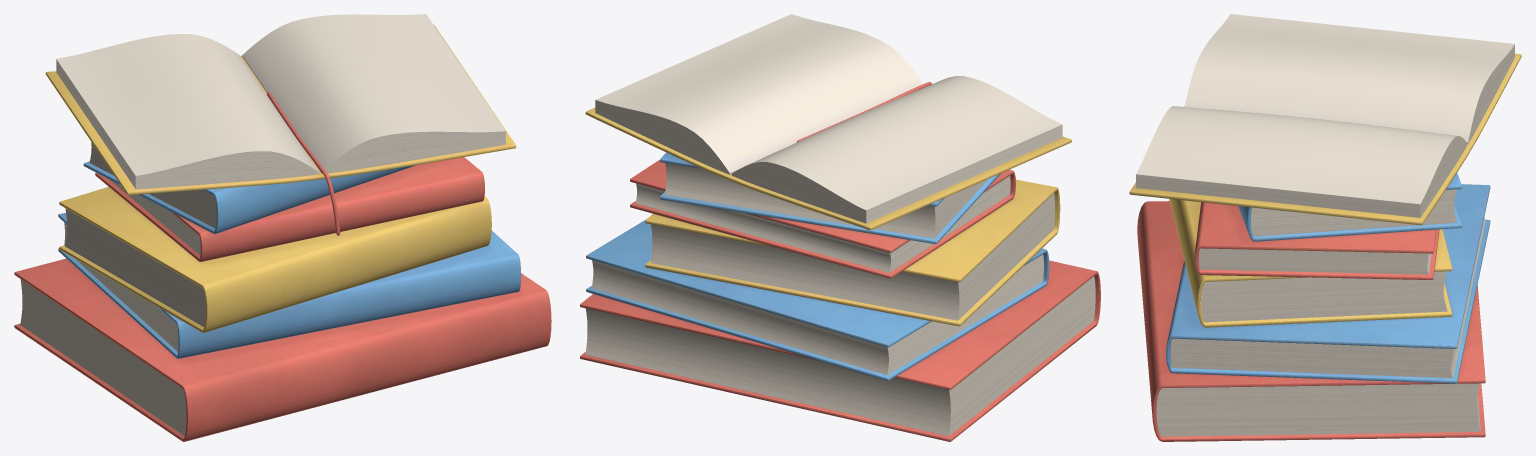
The model's file is pila_libros.glb.
3 renders of one model, left to right at view 1: azimuth 30°, elevation 25°; view 2: azimuth 150°, elevation 25°; view 3: azimuth 270°, elevation 25°, orthographic. The views are drawn at different scales.
Visible parts, largest first — view 1: book-stack_body; view 2: book-stack_body; view 3: book-stack_body.
Boxes of the visible parts, box(x1,y1,x2,y2) form: book-stack_body: box(14, 14, 551, 441); book-stack_body: box(580, 14, 1100, 441); book-stack_body: box(1129, 14, 1521, 441).
Bounding box in the file's own units: 0.3136 × 0.1871 × 0.2608.
2 materials, 2 textured.
